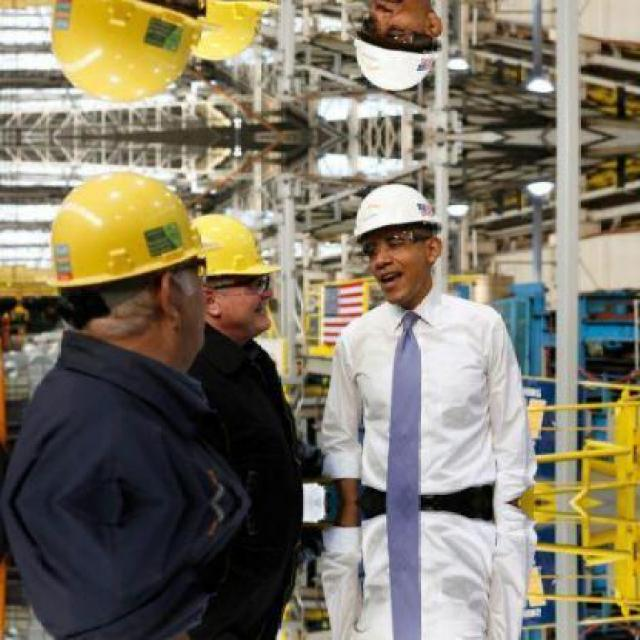hard-hat: (48, 171, 204, 289), (189, 213, 282, 278), (353, 183, 443, 240)
person: (0, 170, 252, 638), (317, 183, 539, 639), (184, 213, 304, 639)
